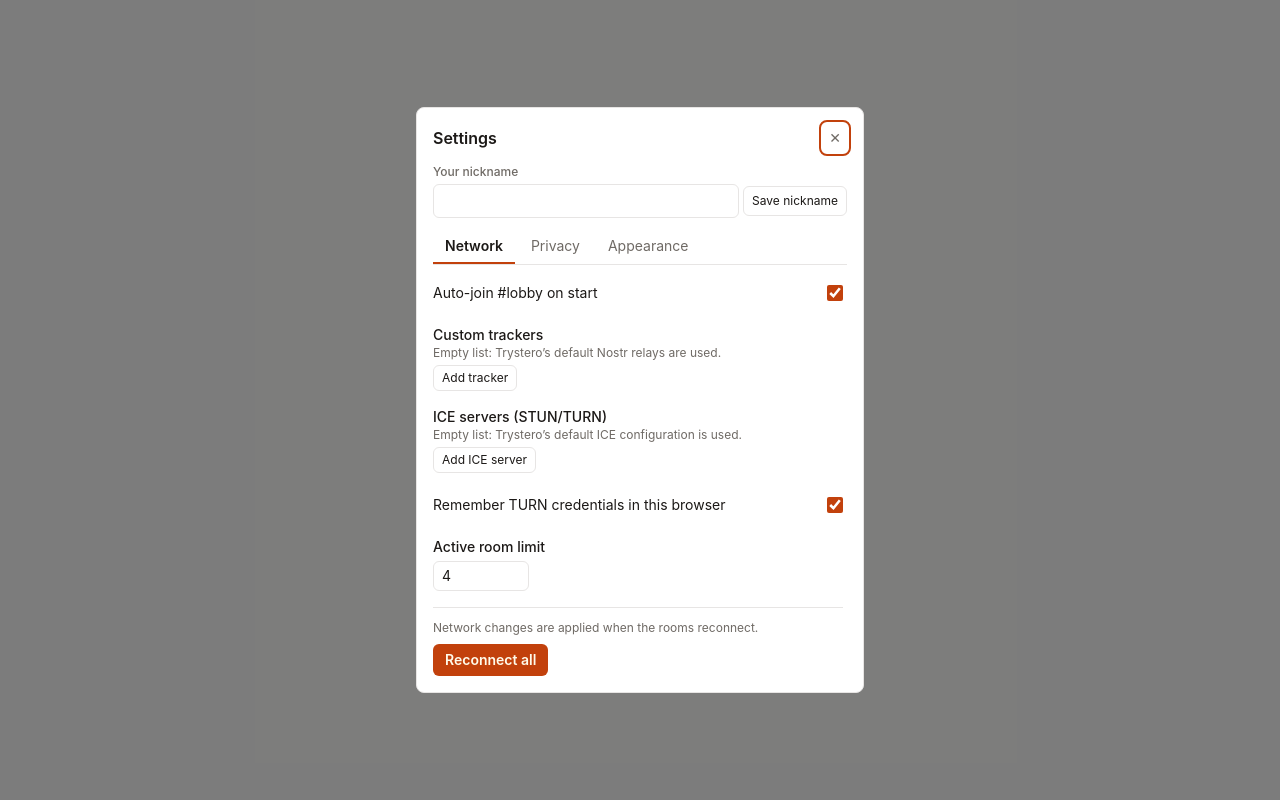
Scenario: Red tab (RF-07) › clamps the room limit to 1–6 and reports out-of-range values
Replace the text in the number field labelled "Active room limit" with "9": (481, 576) [433,561,529,591]
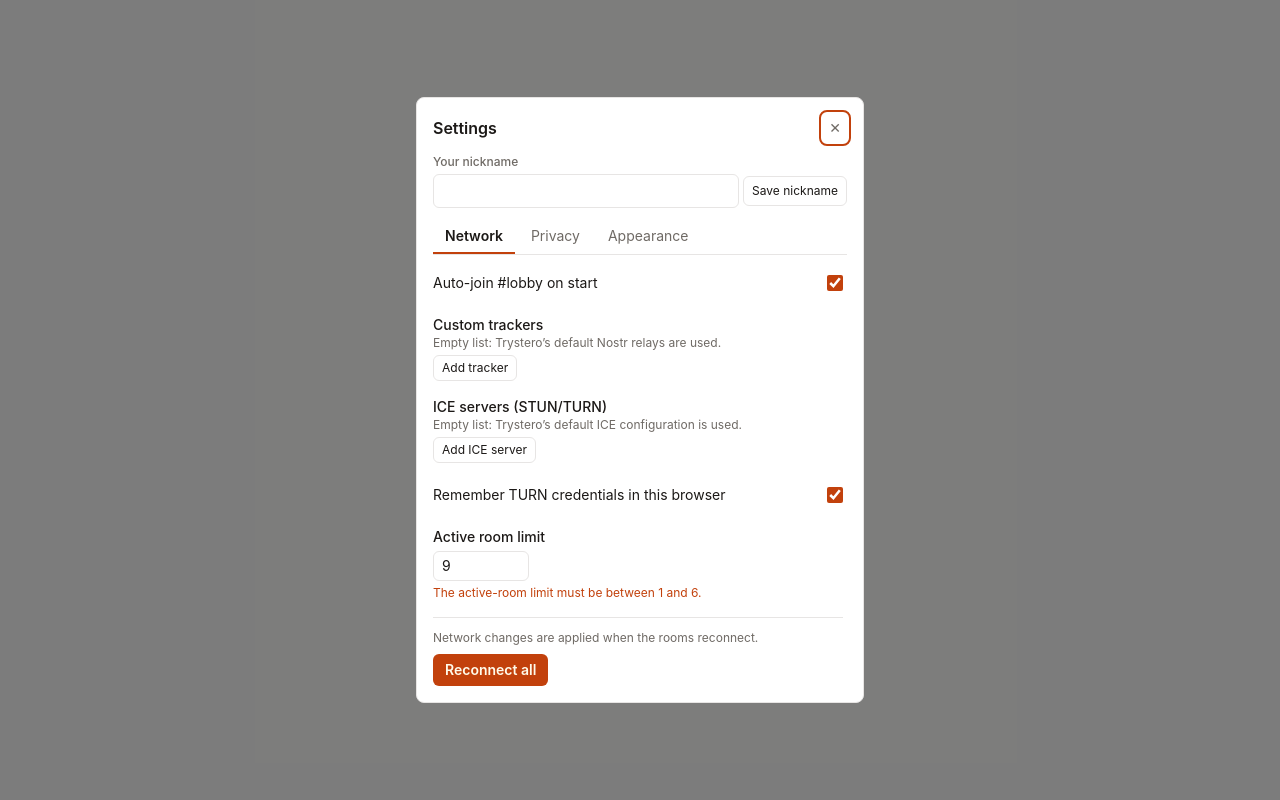
expect the message reads "The active-room limit must be between 1 and 6.": met, box [433,585,702,600]
Replace the text in the number field labelled "Active room limit" with "2": (481, 566) [433,551,529,581]
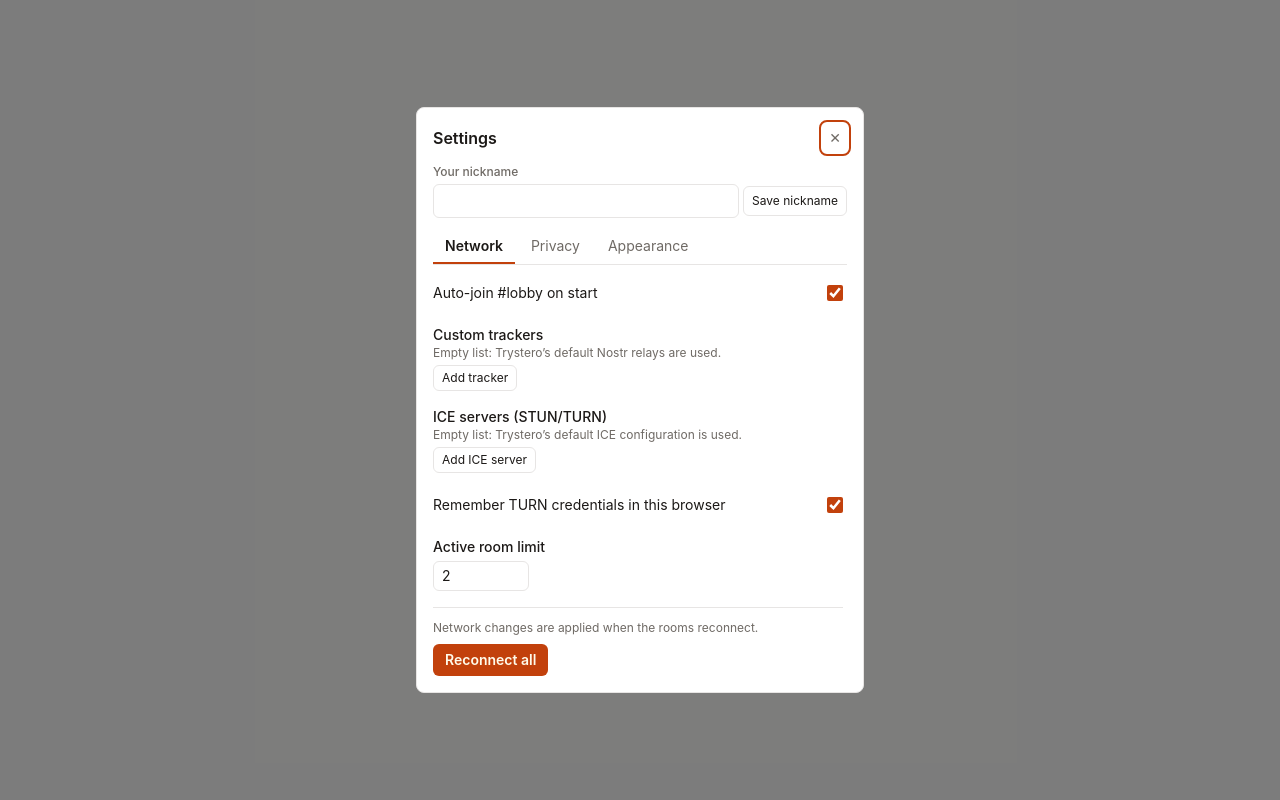
expect the message "The active-room limit must be between 1 and 6." is gone: met
Replace the text in the number field labelled "Active room limit" with "0": (481, 576) [433,561,529,591]
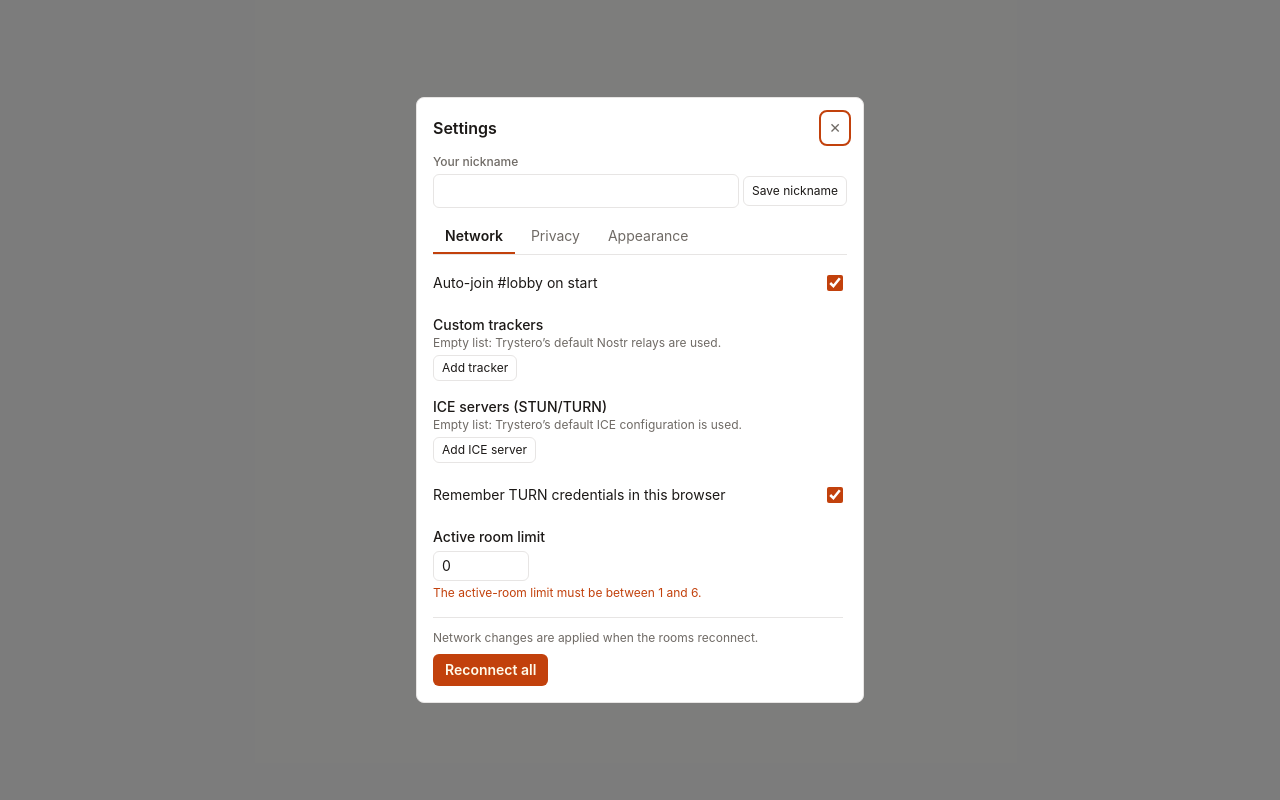
Leave the number field labelled "Active room limit", box [433,551,529,581]
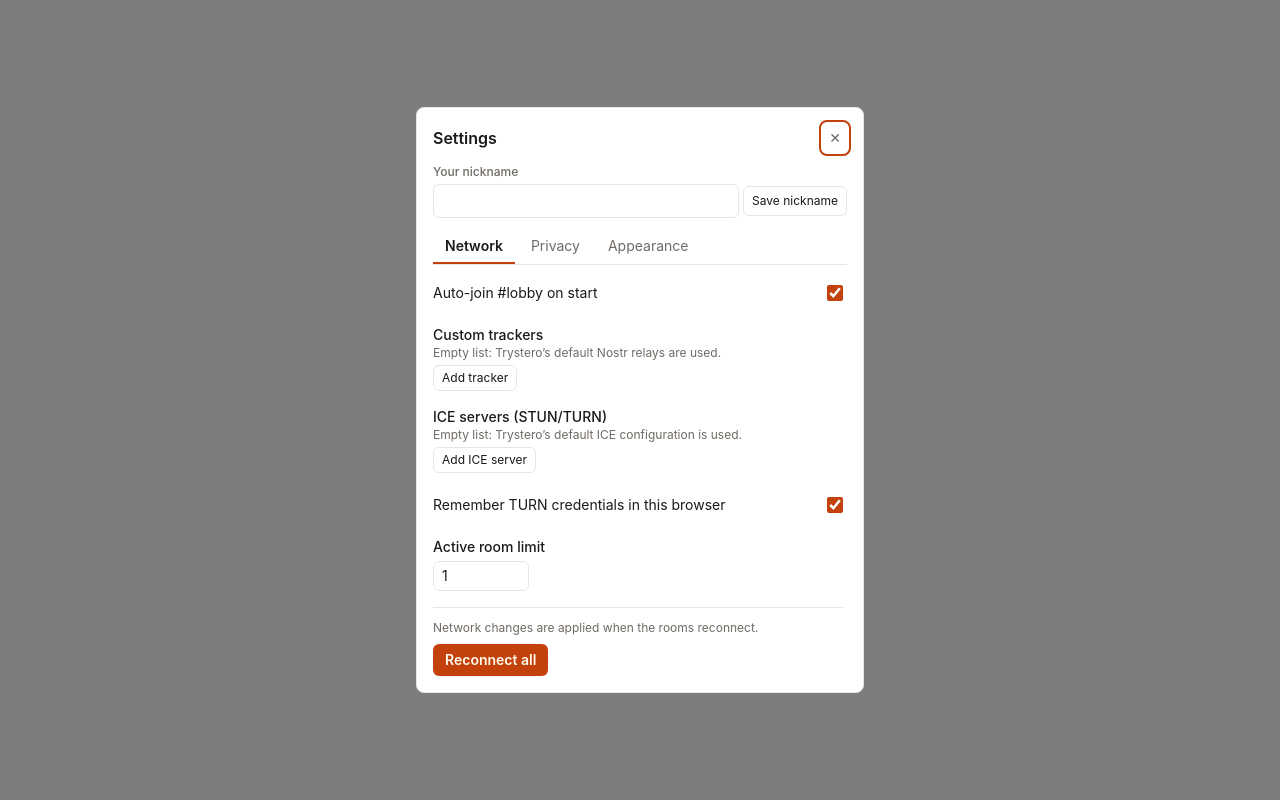
expect the message "The active-room limit must be between 1 and 6." is gone: met
expect the number field labelled "Active room limit" holds "1": met, box [433,561,529,591]
